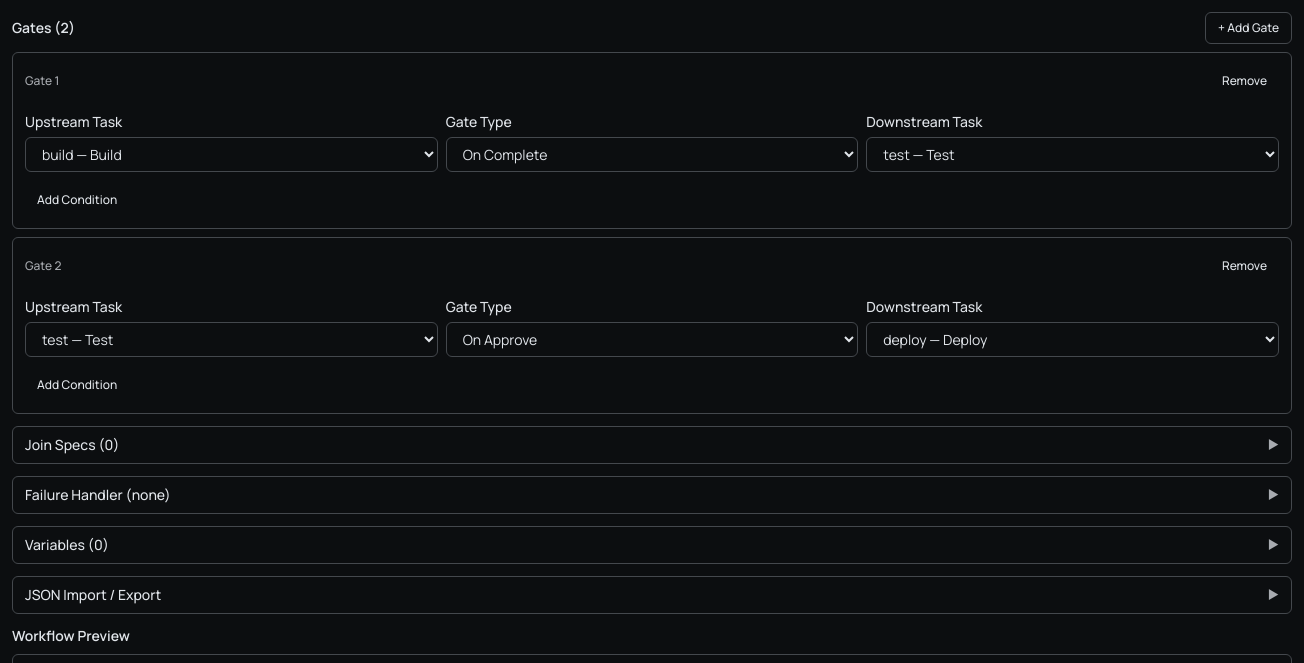
WorkflowTemplateEditor › opens join specs section on click
This screenshot has width=1304, height=663.
What coordinates should you click on to do the following:
click the button with test id "section-join-specs"
I would click on:
 (72, 444)
Its box is [13,427,1291,463].
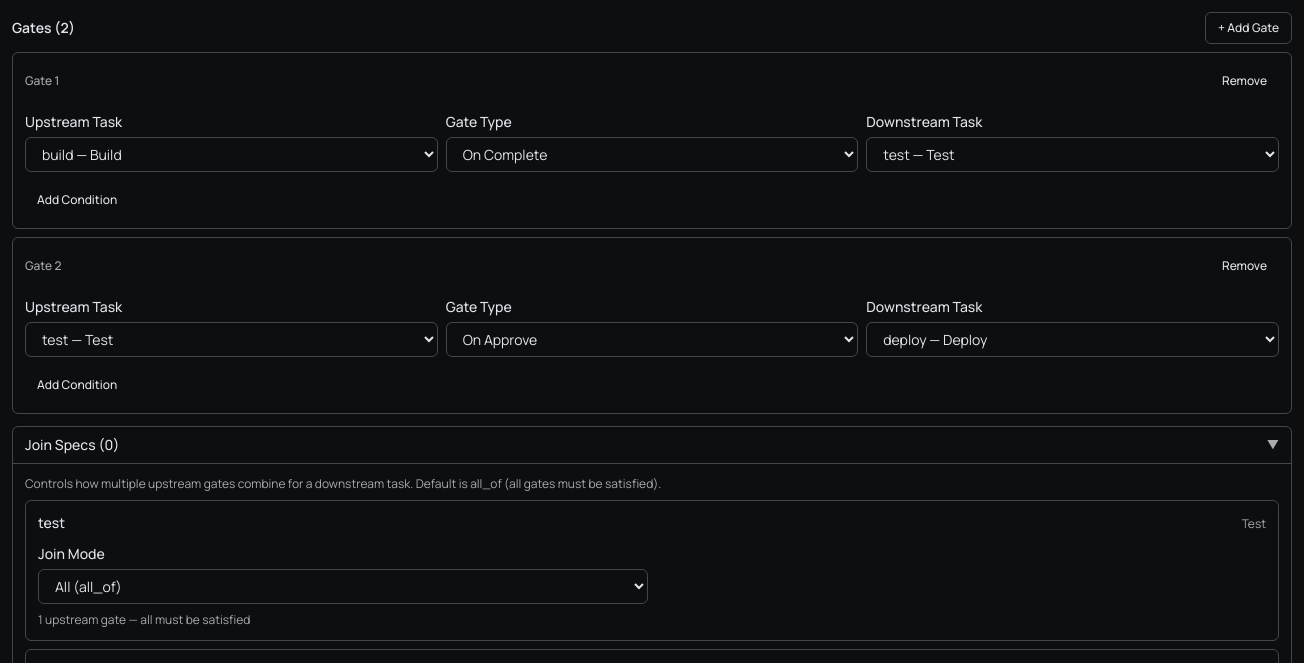
Now the text "Controls how multiple upstream gates" is shown, box [25,475,661,492]
